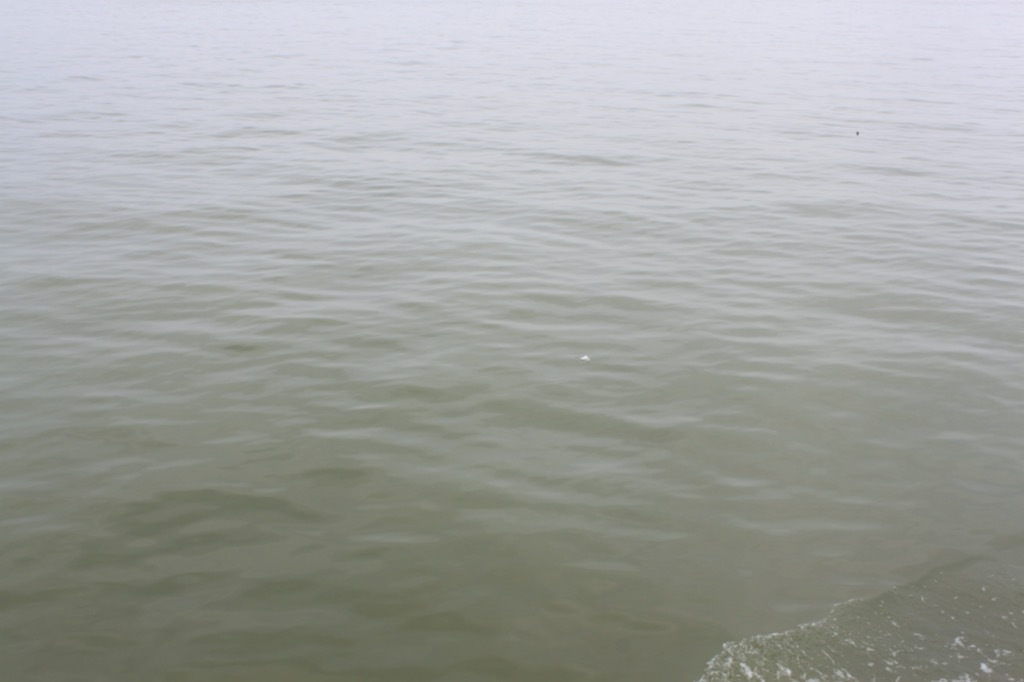plastic: (570, 342, 602, 375), (850, 128, 865, 139)
